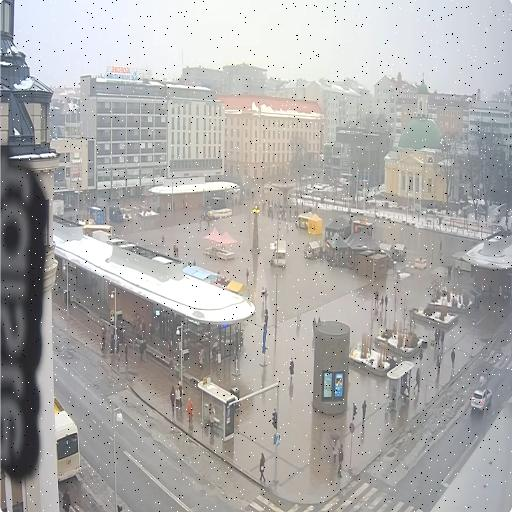Bus: (55, 398, 81, 481)
